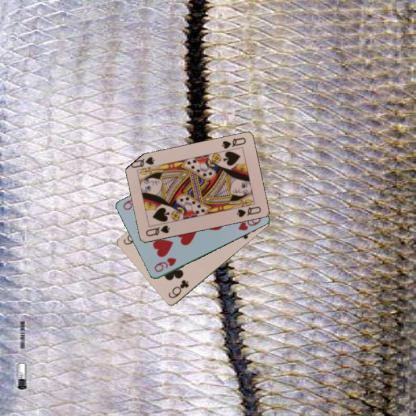6c: (166, 277, 190, 300)
9h: (151, 256, 178, 274)
Qs: (219, 135, 247, 150), (143, 223, 171, 237)
